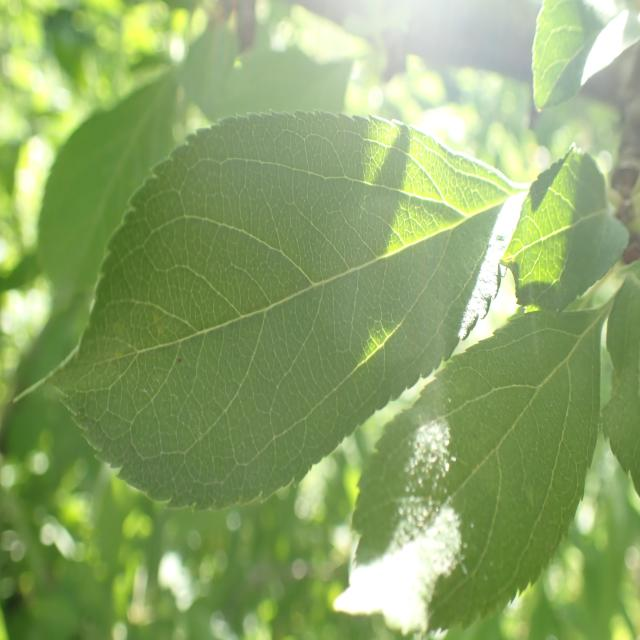healthy: (53, 109, 530, 512), (334, 270, 617, 636), (499, 142, 630, 314), (530, 0, 635, 113), (600, 265, 640, 500)
